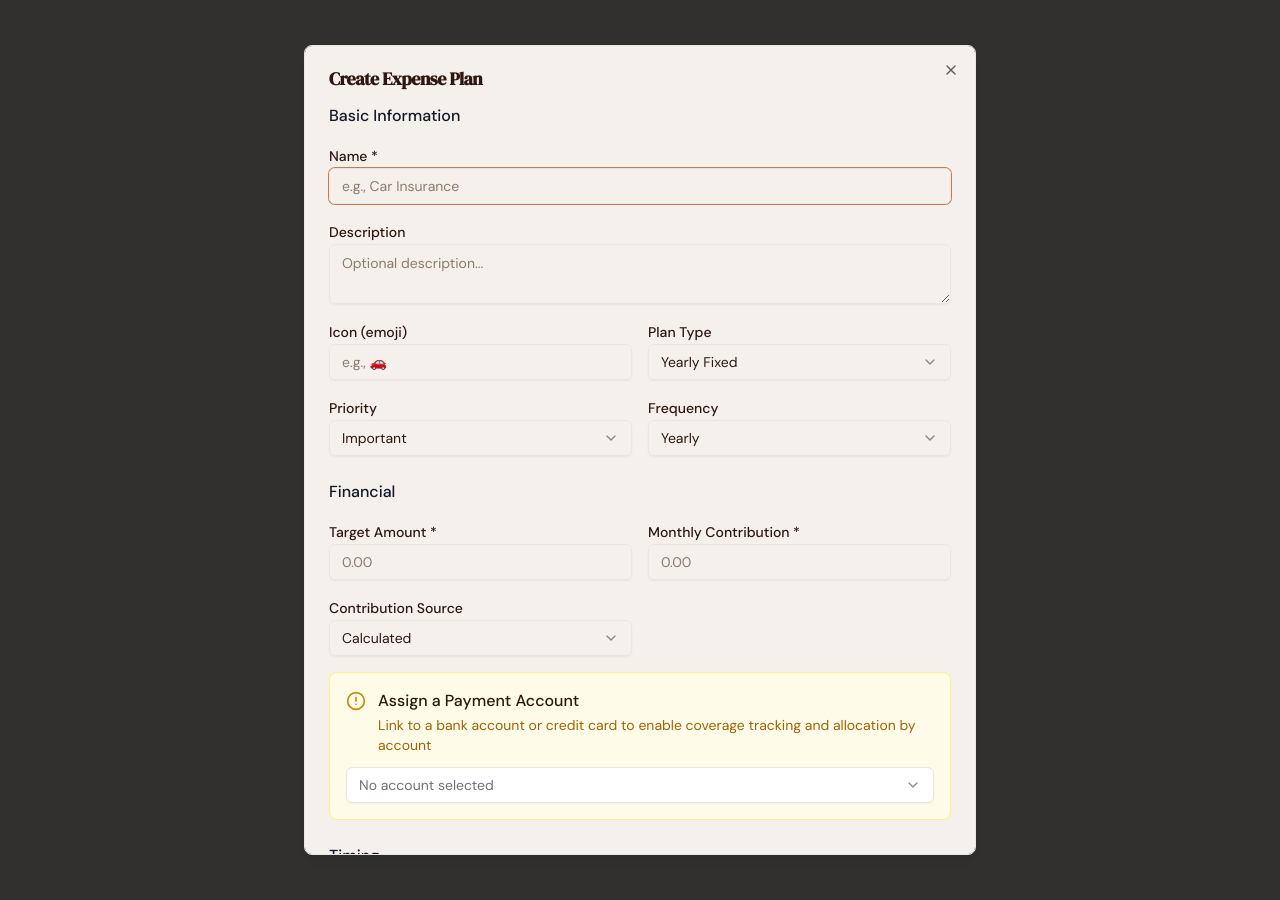
ExpensePlanFormDialog › Payment Account selection › should show bank accounts in the dropdown
Expected: the text "Assign a Payment Account" is shown, 378,690 -> 579,711
Click the dropdown labelled "No account selected": (426, 785) 346,767 -> 934,803
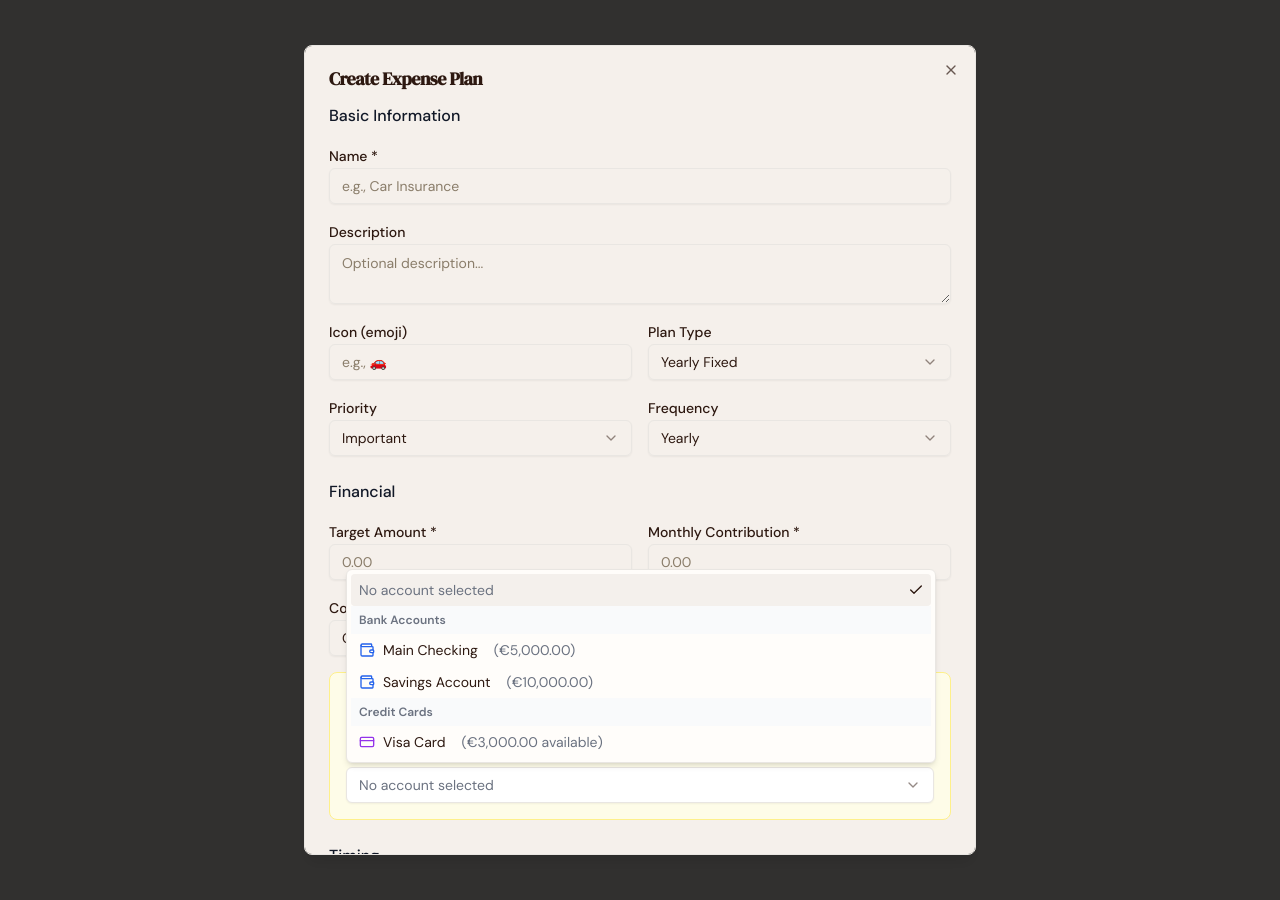
Now the text "Main Checking" is shown, box 383,640 -> 478,660
Now the text "Savings Account" is shown, box 383,672 -> 491,692
